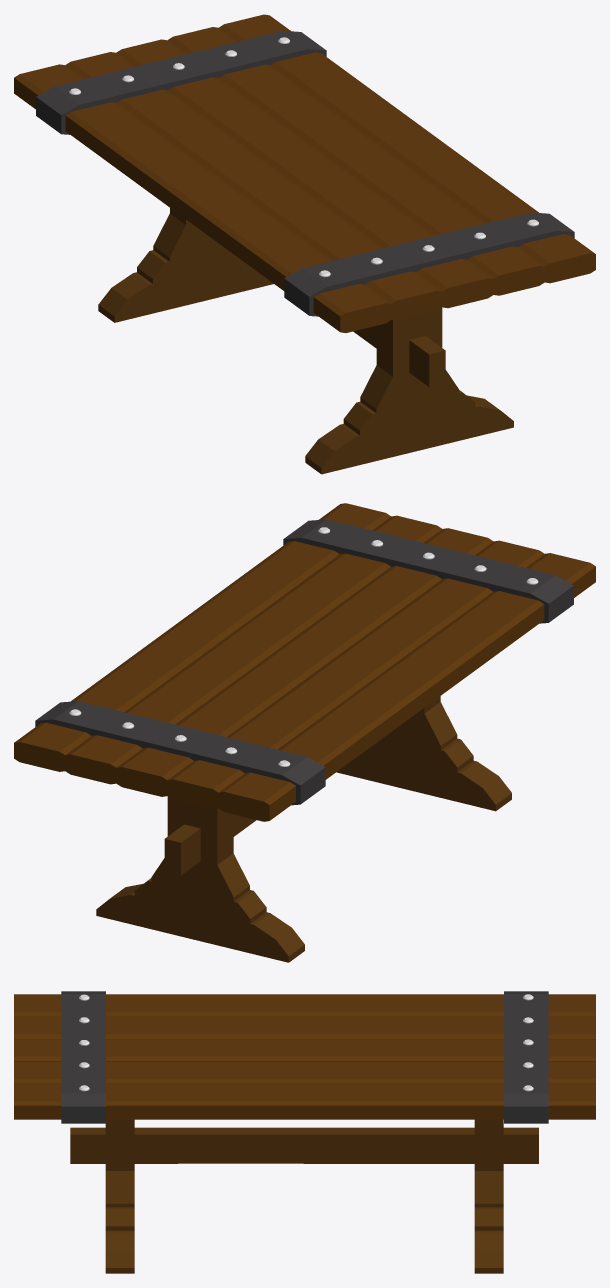
File: Table.fbx
3 views of the same model, one above another, from view 1: azimuth 30°, elevation 25°; view 2: azimuth 150°, elevation 25°; view 3: azimuth 270°, elevation 25° (orthographic). The views are drawn at different scales.
Visible parts, largest first — view 1: Table roof, Table foot, Metal band; view 2: Table roof, Table foot, Metal band; view 3: Table roof, Table foot, Metal band.
Boxes of the visible parts, x1,y1,x2,y2 form: Table roof: (14,14,595,332); Table foot: (98,208,513,474); Metal band: (36,30,574,316); Table roof: (14,503,595,821); Table foot: (96,696,511,962); Metal band: (35,519,573,805); Table roof: (14,994,595,1119); Table foot: (70,1119,538,1273); Metal band: (61,991,548,1123).
Size of the model in its own units: 10275 by 7883 by 21886.
